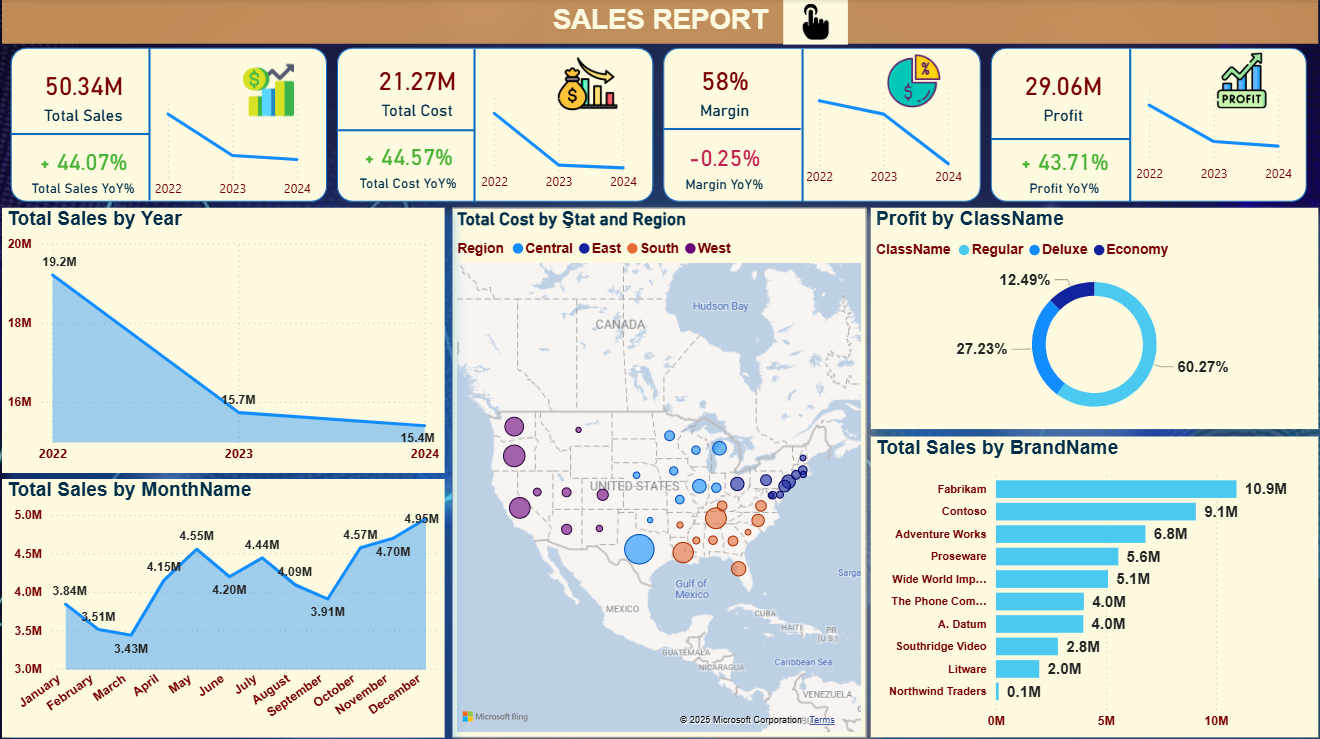

The dashboard page shown, as its layout file describes it:
{"tool":"powerbi","page":{"name":"Sales Report","canvas":[1280,720],"ordinal":0},"visuals":[{"type":"donutChart","fields":{"Category":["Product.ClassName"],"Y":["#DAX.Profit"]},"box":[843.3,201.5,431.9,213.5],"z":0},{"type":"map","fields":{"Size":["#DAX.Total Cost"],"Category":["Ünvanlar.Ştat"],"Series":["Ünvanlar.Region"]},"box":[439.6,201.6,399.5,511],"z":1000},{"type":"textbox","box":[4.8,0,1270.4,43.4],"z":3000},{"type":"image","box":[759,0,62.6,43.8],"z":5000},{"type":"barChart","fields":{"Category":["Product.BrandName"],"Y":["#DAX.Total Sales"]},"box":[842.9,421.9,431.9,290.8],"z":7000},{"type":"shape","box":[327.9,47.6,305.2,148.7],"z":8000},{"type":"areaChart","fields":{"Y":["#DAX.Total Sales"],"Category":["Calendar.Year"]},"box":[4.8,201.5,427.1,255.8],"z":10000},{"type":"shape","box":[642.8,47.6,306.5,148.7],"z":12000},{"type":"areaChart","fields":{"Y":["#DAX.Total Sales"],"Category":["Calendar.MonthName"]},"box":[5,463.4,427.1,249.2],"z":13000},{"type":"shape","box":[13.1,47.6,305.2,148.7],"z":14000},{"type":"shape","box":[959,47.6,305,148.7],"z":15000},{"type":"card","fields":{"Values":["#DAX.Total Sales"]},"box":[26,52.9,114,77.9],"z":16000},{"type":"card","fields":{"Values":["#DAX.Total Sales YoY%"]},"box":[26.5,134.4,113.4,60.3],"z":17000},{"type":"shape","box":[13.3,96.5,133.9,67.6],"z":18000},{"type":"shape","box":[132.7,47.1,29,147.2],"z":19000},{"type":"card","fields":{"Values":["#DAX.Total Cost"]},"box":[348.2,48.2,114,77.9],"z":20000},{"type":"card","fields":{"Values":["#DAX.Total Cost YoY%"]},"box":[339.7,127.9,113.4,62.7],"z":21000},{"type":"shape","box":[328.2,92.9,132.7,67.6],"z":22000},{"type":"shape","box":[452.4,48.7,16.9,148.4],"z":23000},{"type":"card","fields":{"Values":["#DAX.Margin"]},"box":[645.5,48.8,114,77.9],"z":24000},{"type":"card","fields":{"Values":["#DAX.Margin YoY%"]},"box":[646,130.3,113.4,60.3],"z":25000},{"type":"shape","box":[643,103.8,132.7,43.4],"z":26000},{"type":"shape","box":[763.1,47.7,27.6,147.3],"z":27000},{"type":"card","fields":{"Values":["#DAX.Profit"]},"box":[972.8,52.7,114,77.9],"z":28000},{"type":"card","fields":{"Values":["#DAX.Profit YoY%"]},"box":[973.4,134.2,113.4,60.3],"z":29000},{"type":"shape","box":[959.1,101.3,135.1,67.6],"z":30000},{"type":"shape","box":[1078.5,48.3,30.3,147.3],"z":31000},{"type":"image","box":[854.6,48.7,61.8,61.8],"z":32000},{"type":"image","box":[1169.3,47.4,64.5,63.1],"z":33000},{"type":"image","box":[227.6,53.3,68.4,69.7],"z":34000},{"type":"image","box":[531.2,48.7,77.6,67.1],"z":35000},{"type":"lineChart","fields":{"Category":["Calendar.Year"],"Y":["#DAX.Total Sales"]},"box":[147.3,87.5,160.5,113.1],"z":36000},{"type":"lineChart","fields":{"Category":["Calendar.Year"],"Y":["#DAX.Total Cost"]},"box":[461.5,81.6,160.5,113.1],"z":37000},{"type":"lineChart","fields":{"Category":["Calendar.Year"],"Y":["#DAX.Margin"]},"box":[775.6,77.6,160.5,113.1],"z":38000},{"type":"lineChart","fields":{"Category":["Calendar.Year"],"Y":["#DAX.Profit"]},"box":[1094.3,73.7,160.5,113.1],"z":39000},{"type":"group","id":"g1","title":"Group 1","box":[13.7,38,864.3,105],"z":43001}]}

Visuals, with their boxes in screenshot pixels (x1, y1, x2, y2), scaled from the page's 1280x720 canvas onto the 1320x739 screenshot:
donutChart - Product.ClassName x #DAX.Profit: 870 207 1315 426
map - #DAX.Total Cost x Ünvanlar.Ştat: 453 207 865 731
textbox: 5 0 1315 45
image: 783 0 847 45
barChart - Product.BrandName x #DAX.Total Sales: 869 433 1315 732
shape: 338 49 653 201
areaChart - #DAX.Total Sales x Calendar.Year: 5 207 445 469
shape: 663 49 979 201
areaChart - #DAX.Total Sales x Calendar.MonthName: 5 476 446 731
shape: 14 49 328 201
shape: 989 49 1304 201
card - #DAX.Total Sales: 27 54 144 134
card - #DAX.Total Sales YoY%: 27 138 144 200
shape: 14 99 152 168
shape: 137 48 167 199
card - #DAX.Total Cost: 359 49 477 129
card - #DAX.Total Cost YoY%: 350 131 467 196
shape: 338 95 475 165
shape: 467 50 484 202
card - #DAX.Margin: 666 50 783 130
card - #DAX.Margin YoY%: 666 134 783 196
shape: 663 107 800 151
shape: 787 49 815 200
card - #DAX.Profit: 1003 54 1121 134
card - #DAX.Profit YoY%: 1004 138 1121 200
shape: 989 104 1128 173
shape: 1112 50 1143 201
image: 881 50 945 113
image: 1206 49 1272 113
image: 235 55 305 126
image: 548 50 628 119
lineChart - Calendar.Year x #DAX.Total Sales: 152 90 317 206
lineChart - Calendar.Year x #DAX.Total Cost: 476 84 641 200
lineChart - Calendar.Year x #DAX.Margin: 800 80 965 196
lineChart - Calendar.Year x #DAX.Profit: 1128 76 1294 192
"Group 1" group: 14 39 905 147
